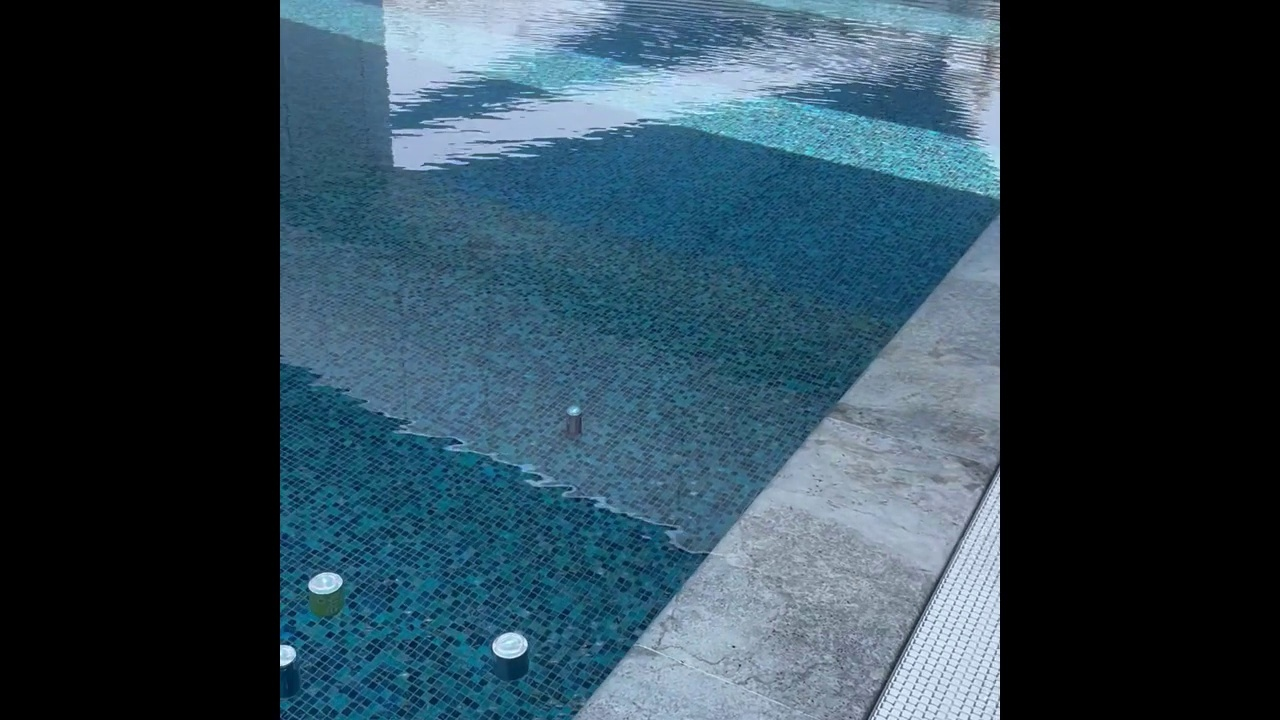debris: (485, 626, 534, 687), (302, 570, 348, 623), (281, 639, 307, 703), (562, 399, 586, 438)
